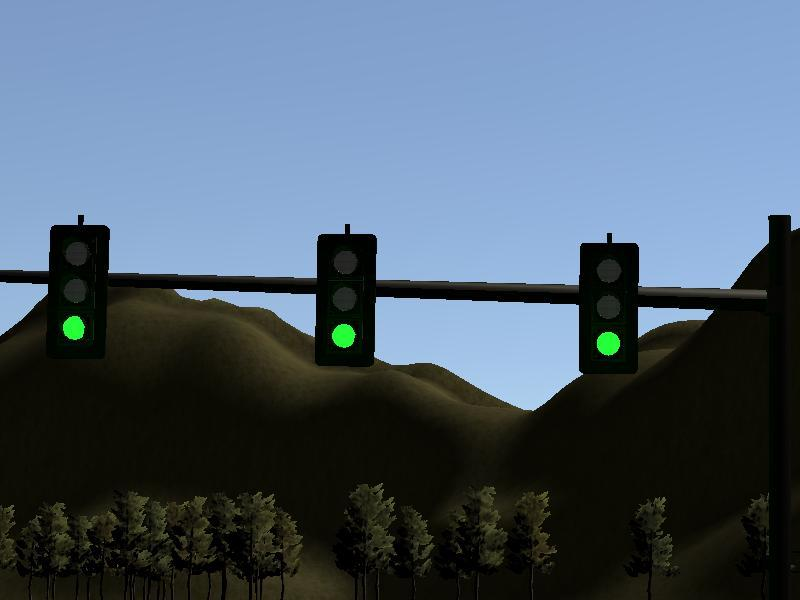Green: (317, 239, 375, 369), (581, 248, 639, 372), (51, 225, 105, 356)
